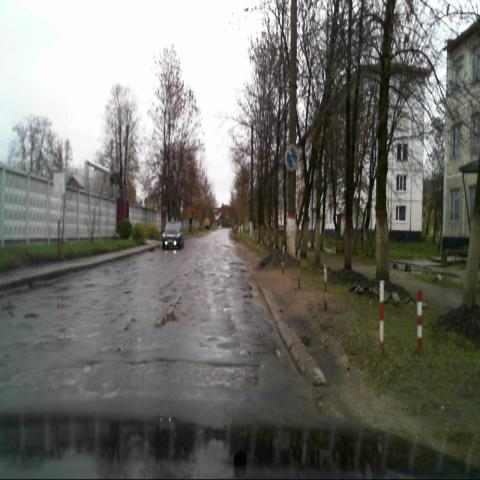3_28: (284, 145, 299, 171)
